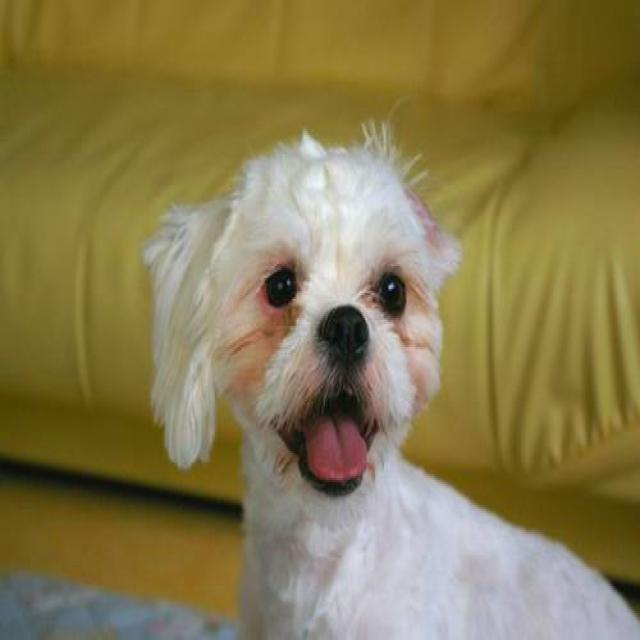maltese_dog: (142, 114, 638, 634)
